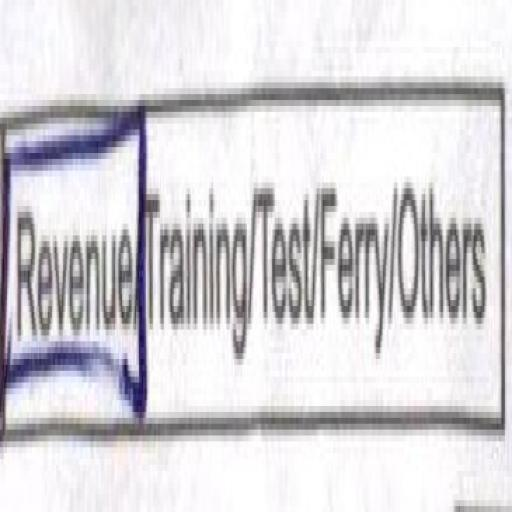check: (0, 65, 148, 505)
